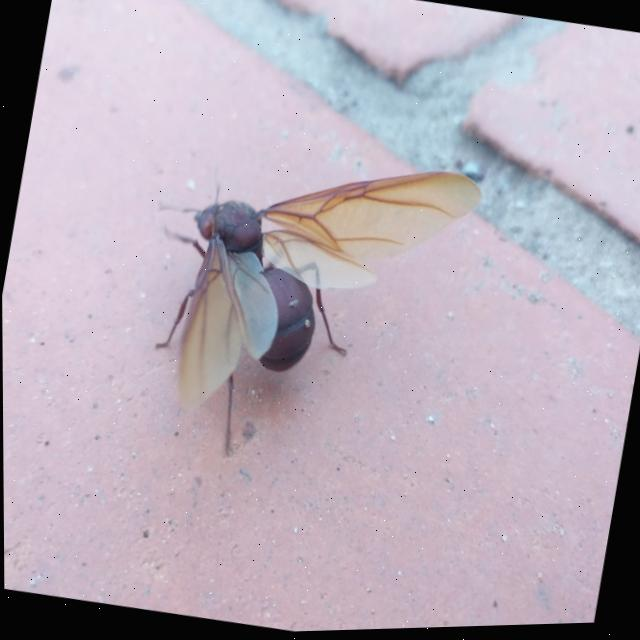Alive-Female-Alate: (115, 123, 486, 498)
